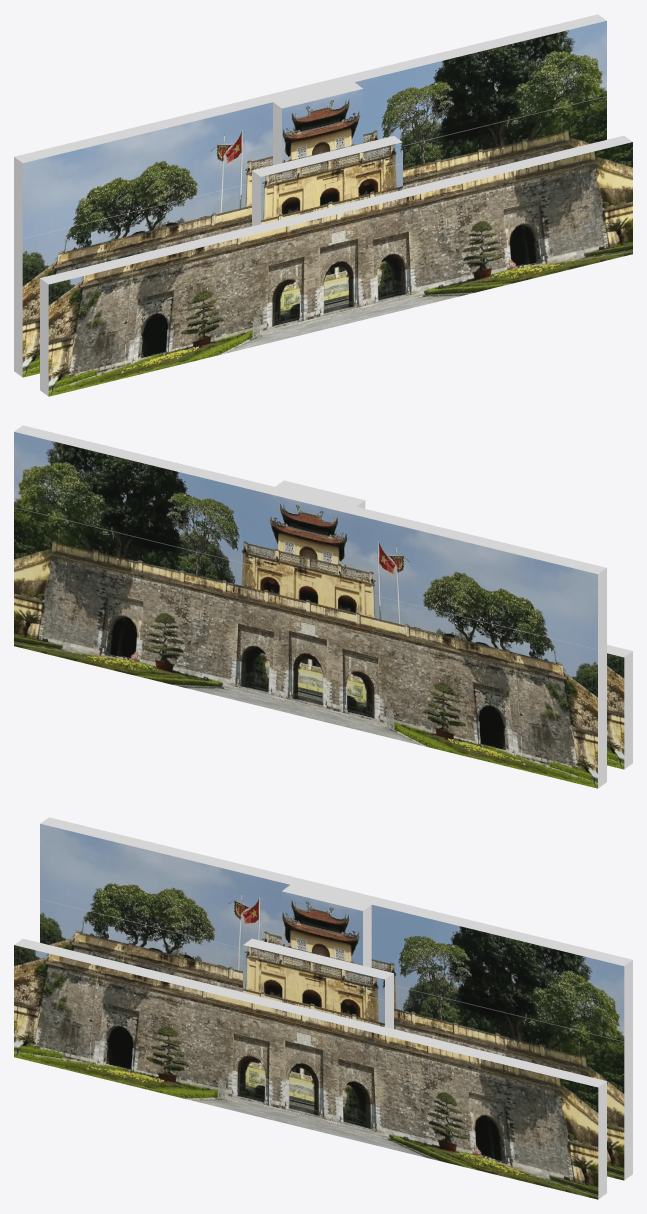
The model's file is hoang_thanh.glb.
The picture shows the model from 3 angles, top to bottom: view 1: azimuth 30°, elevation 25°; view 2: azimuth 150°, elevation 25°; view 3: azimuth 330°, elevation 25°; orthographic projection.
Visible parts, largest first — view 1: hoang_thanh; view 2: hoang_thanh; view 3: hoang_thanh.
Boxes of the visible parts, box(x1,y1,x2,y2) form: hoang_thanh: box(14, 14, 632, 396); hoang_thanh: box(14, 425, 632, 788); hoang_thanh: box(14, 817, 632, 1199).
Size of the model in its own units: 7.65 by 2.68 by 0.7911.
1 material, 1 textured.
